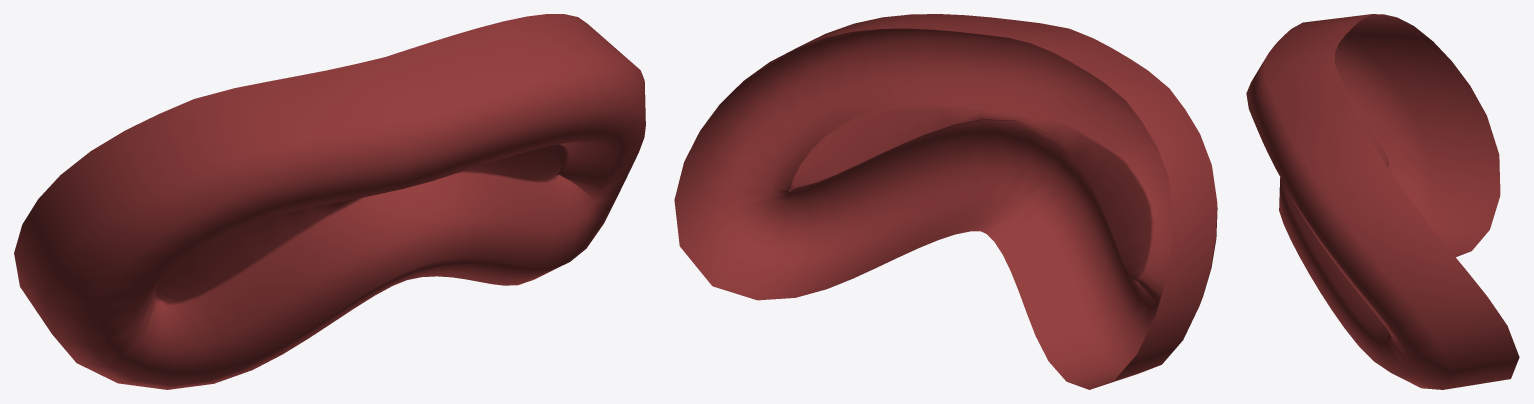
Rendered from Mouth01.fbx.
The picture shows the model from 3 angles, left to right: view 1: azimuth 30°, elevation 25°; view 2: azimuth 150°, elevation 25°; view 3: azimuth 270°, elevation 25°; orthographic projection. The views are drawn at different scales.
Parts seen in each view (by area): view 1: Mouth2; view 2: Mouth2; view 3: Mouth2.
Part boxes in pixels (box(x1,y1,x2,y2)): Mouth2: box(14, 14, 645, 389); Mouth2: box(674, 14, 1217, 389); Mouth2: box(1246, 14, 1519, 389).
Bounding box in the file's own units: 4.44 × 2.3 × 2.24.
